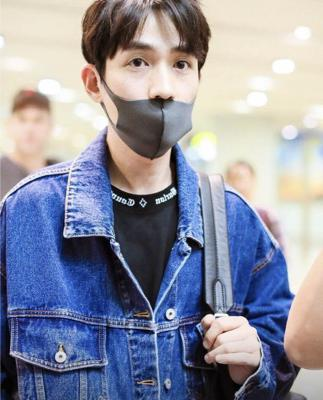mask_weared_incorrect: (101, 38, 201, 160)
without_mask: (13, 112, 49, 153)
